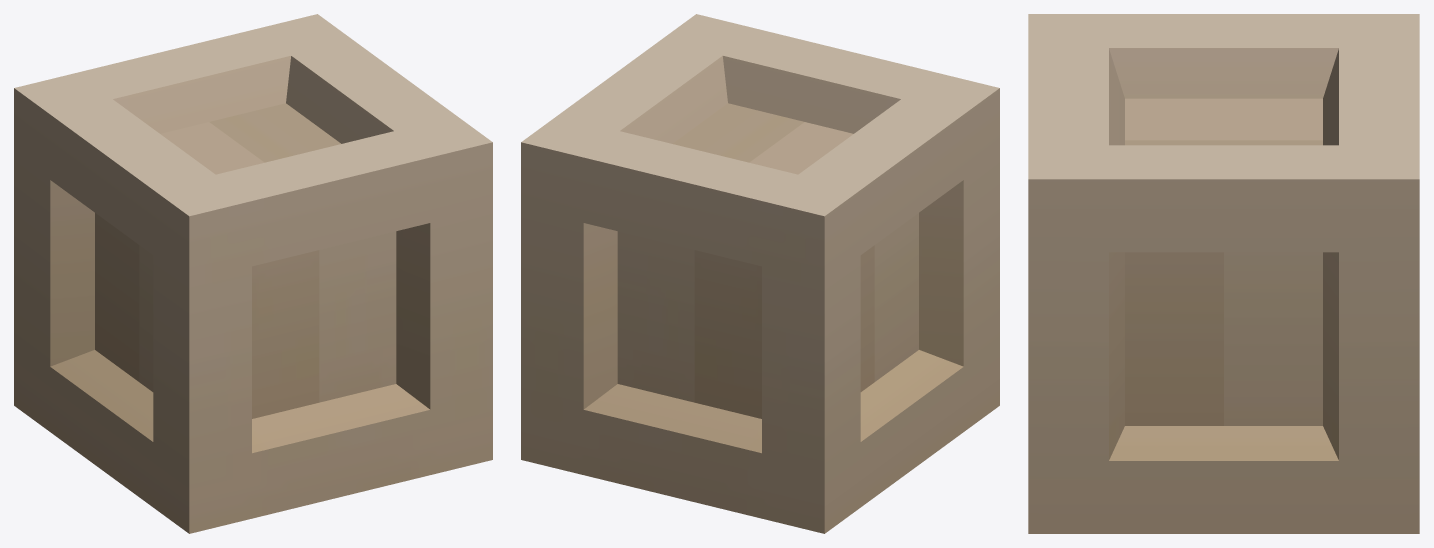
Rendered from kaykit-medieval-hexagon-pack-crate-b-small.glb.
3 views of the same model, side by side, from view 1: azimuth 30°, elevation 25°; view 2: azimuth 150°, elevation 25°; view 3: azimuth 270°, elevation 25° (orthographic). The views are drawn at different scales.
Parts seen in each view (by area): view 1: crate_B_small; view 2: crate_B_small; view 3: crate_B_small.
Boxes of the visible parts, <box> form: crate_B_small: <box>14,14,492,533</box>; crate_B_small: <box>521,14,999,533</box>; crate_B_small: <box>1028,14,1419,533</box>.
Bounding box in the file's own units: 0.14 × 0.14 × 0.14.
1 material, 1 textured.
